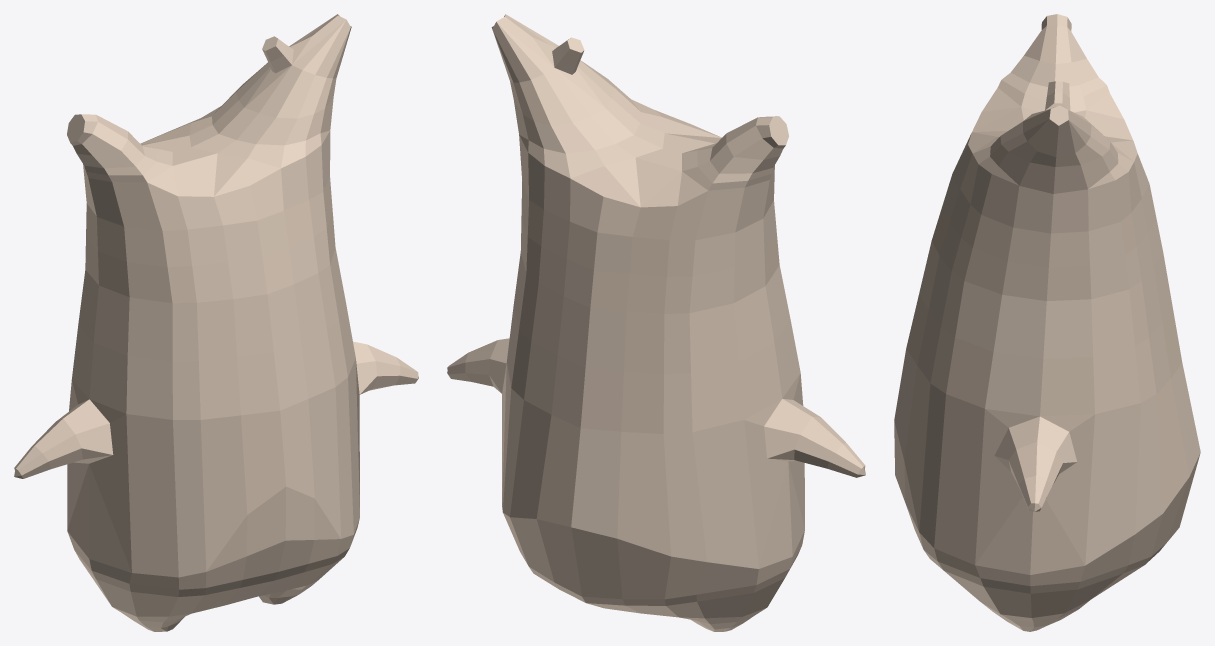
Rendered from frame_0012.obj.
3 renders of one model, left to right at view 1: azimuth 30°, elevation 25°; view 2: azimuth 150°, elevation 25°; view 3: azimuth 270°, elevation 25°, orthographic. The views are drawn at different scales.
Parts seen in each view (by area): view 1: korok; view 2: korok; view 3: korok.
Boxes of the visible parts, box(x1,y1,x2,y2) form: korok: box(14, 14, 418, 631); korok: box(447, 14, 865, 631); korok: box(894, 14, 1200, 631).
Size of the model in its own units: 1.63 by 2.15 by 1.06.
